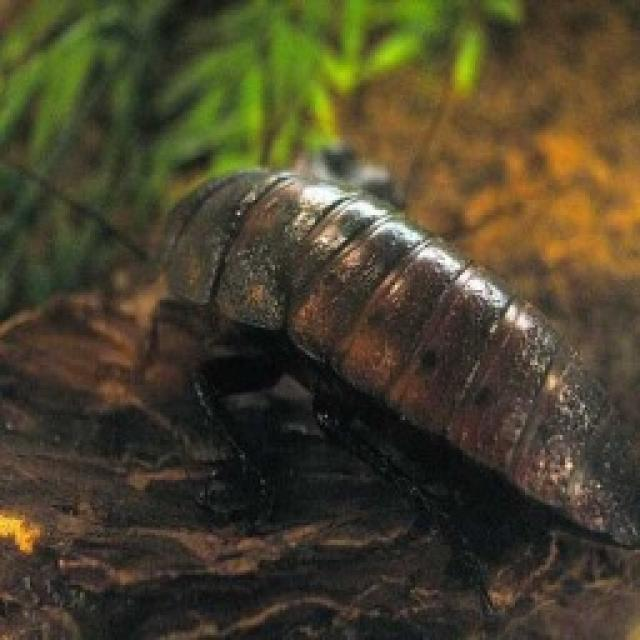cockroach: (141, 139, 638, 601)
